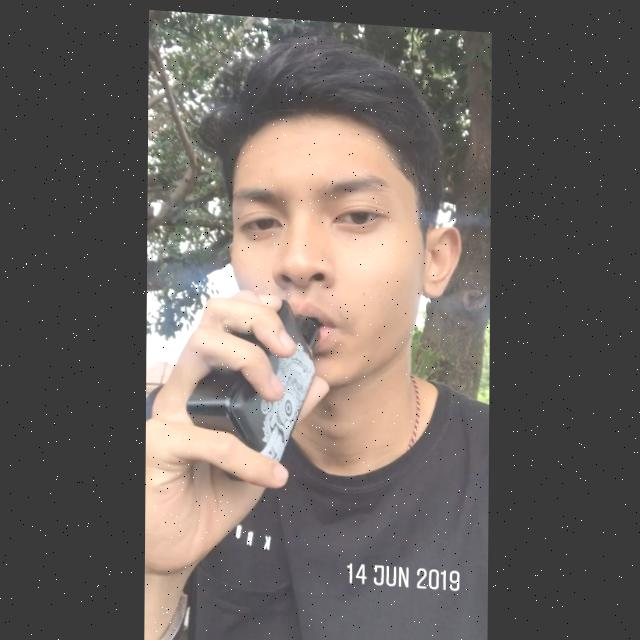vape: (185, 290, 321, 461)
